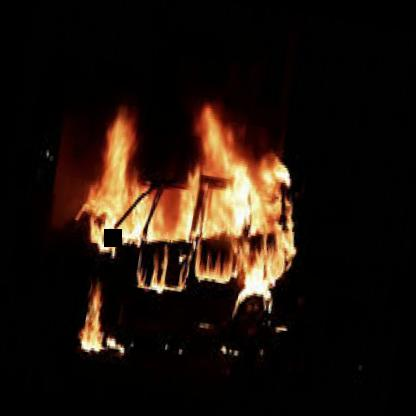fire: (55, 102, 301, 371)
